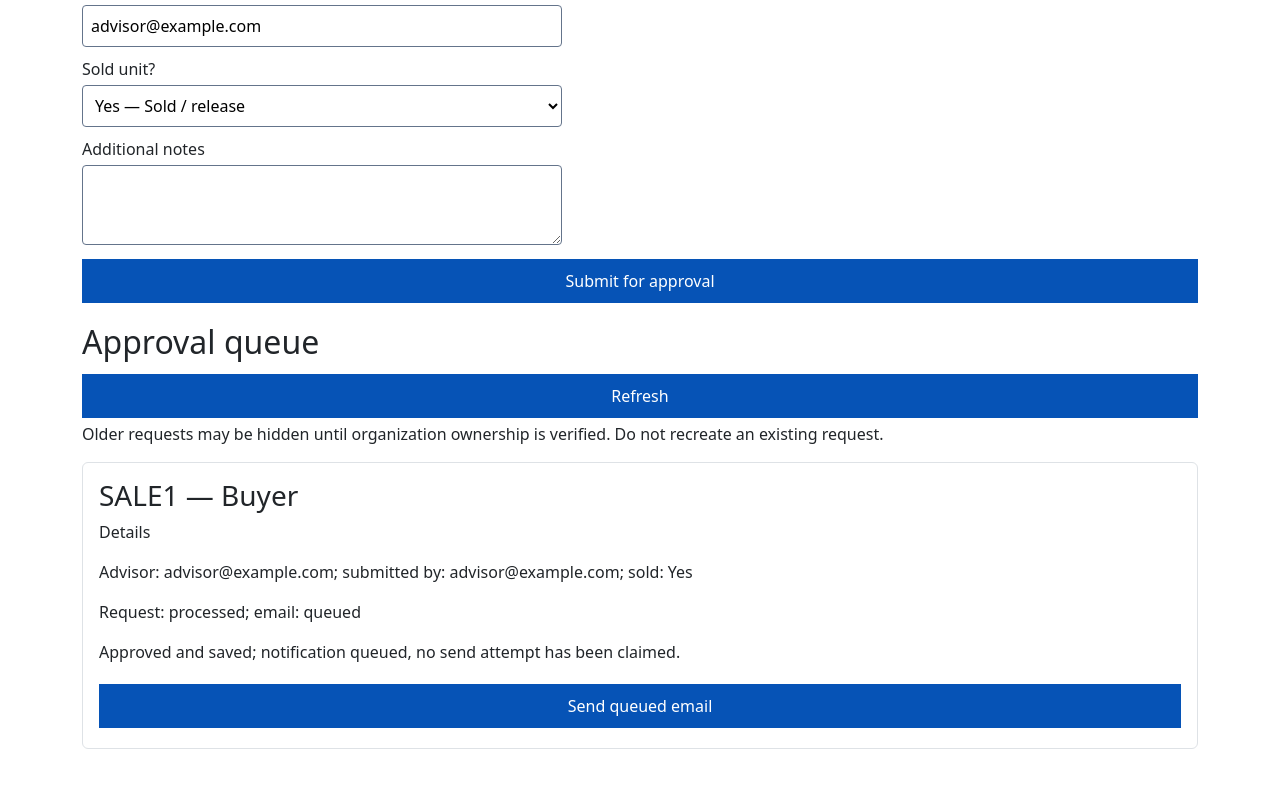
send displays accepted outcome and removes retry control
(page scrolled)
Click the button "Send queued email" at (640, 706), box [99, 684, 1181, 728]
(page scrolled)
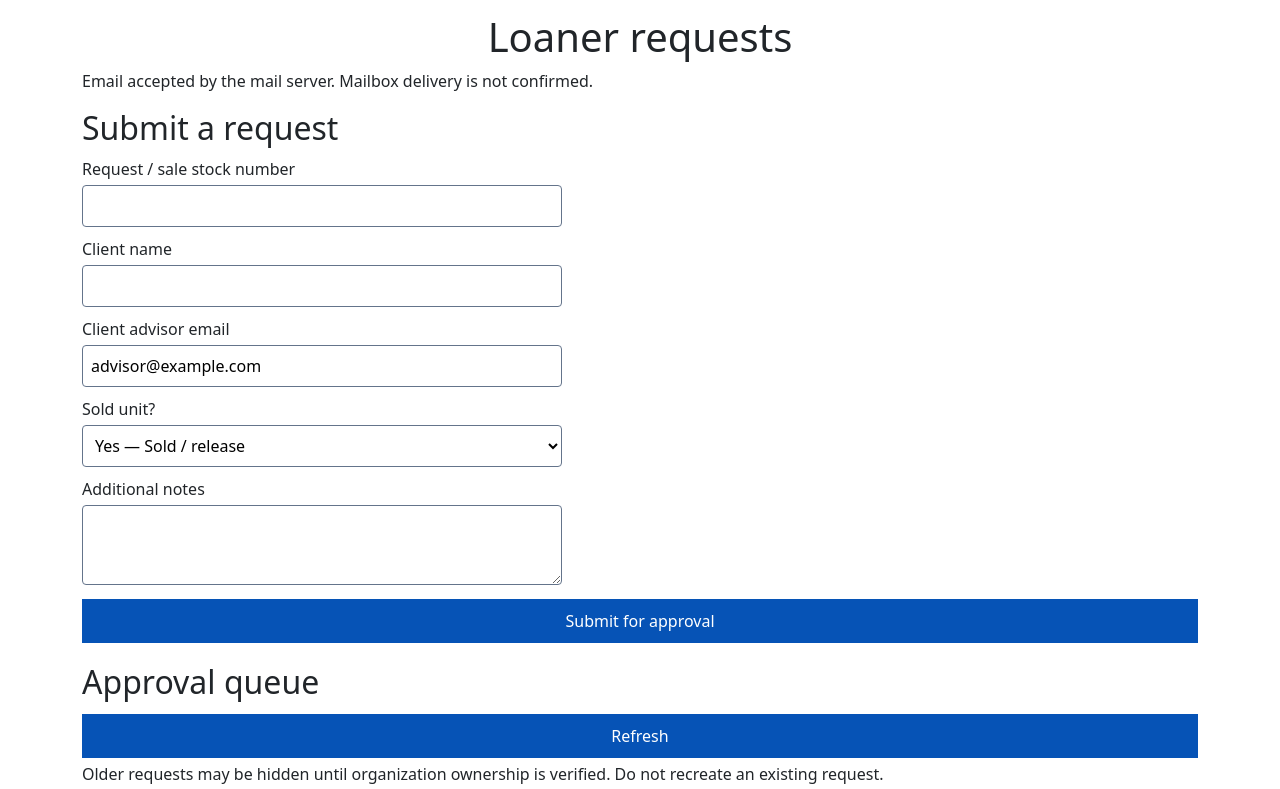
Check: the text "Email accepted by the mail server. Mailbox delivery is not confirmed." is shown, box [82, 70, 593, 92]
Check: the button "Send queued email" is gone
